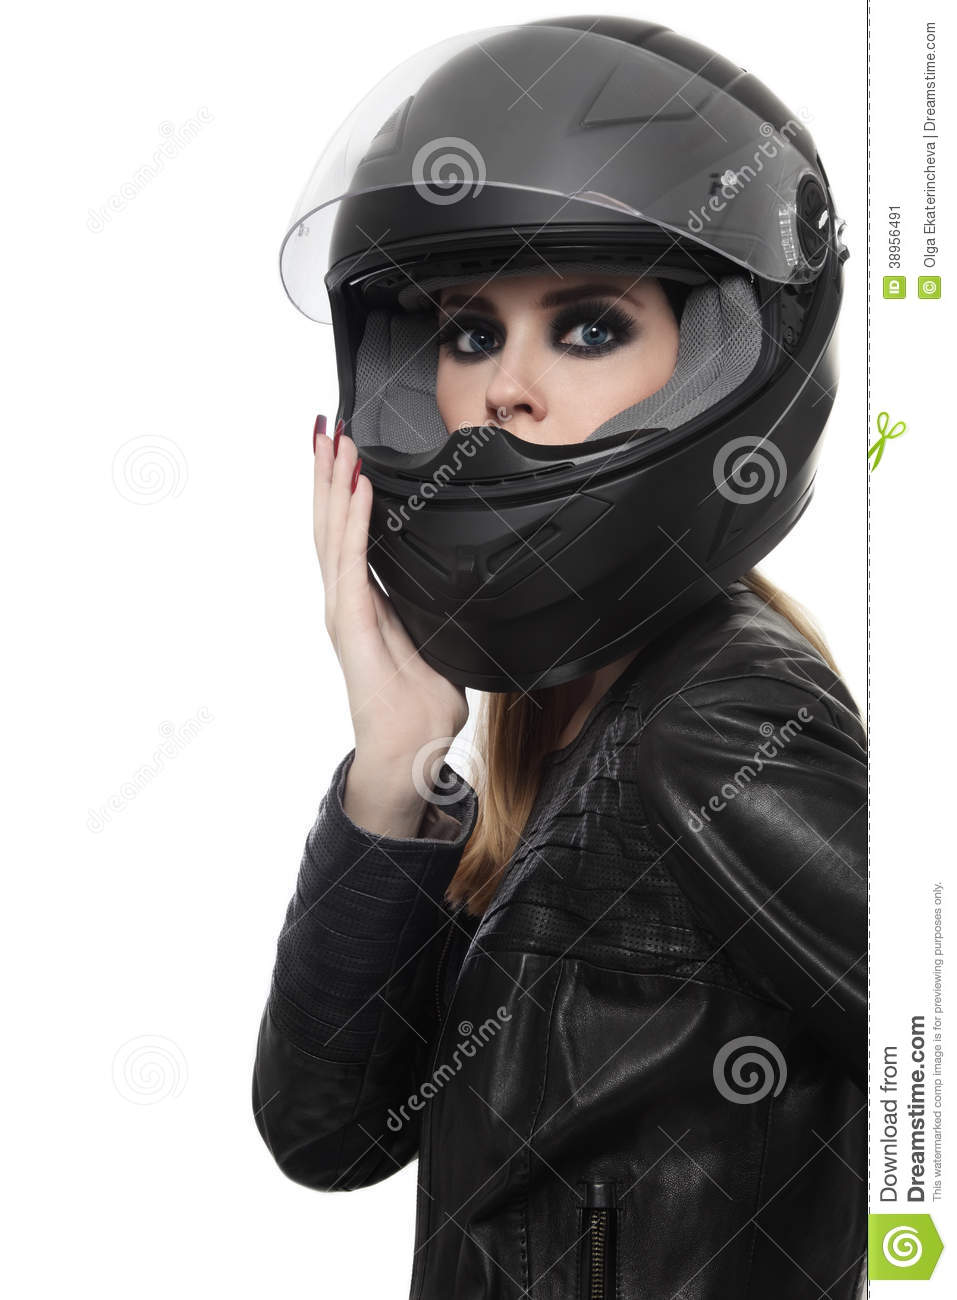helmet: (280, 21, 856, 665)
